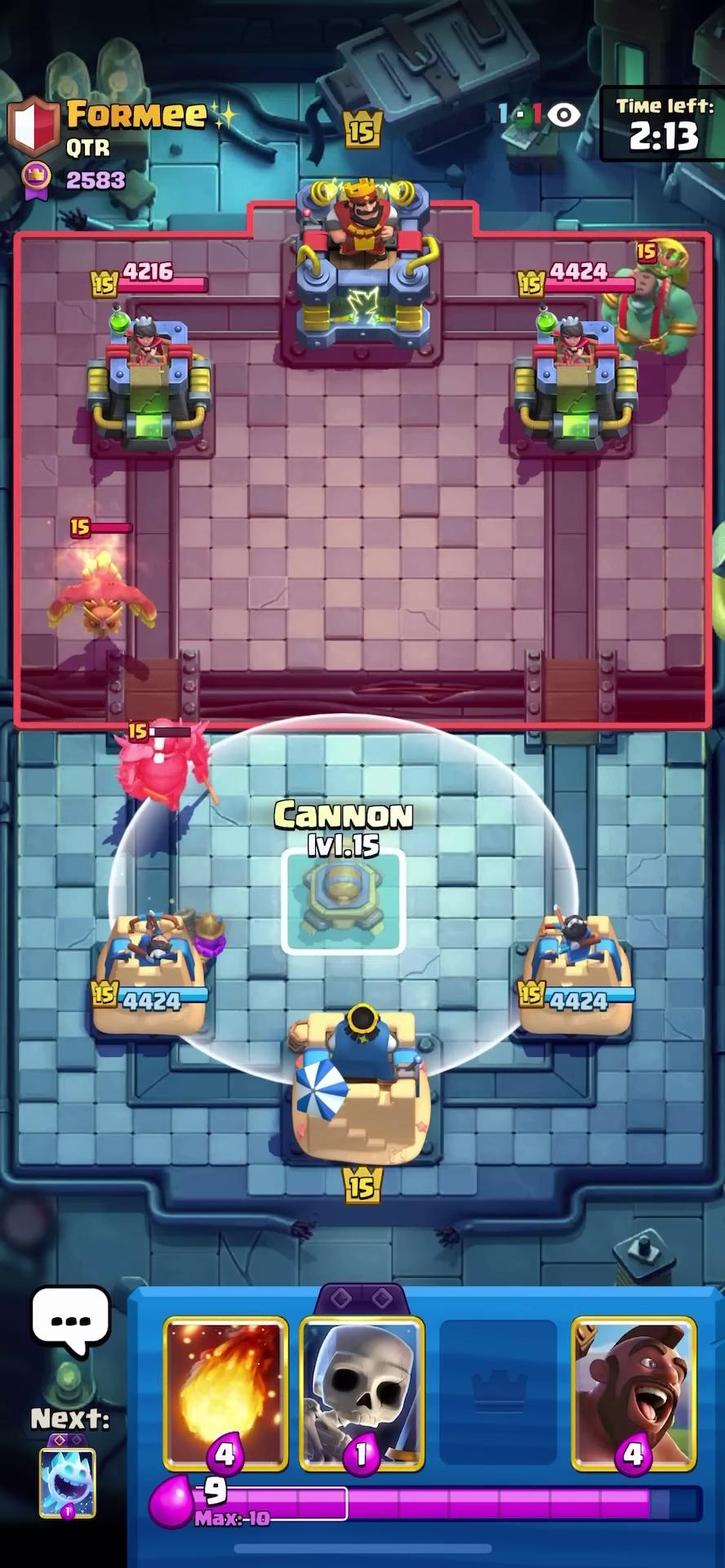musketeer: (176, 896, 235, 980)
